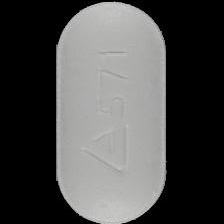60429-725: (0, 0, 224, 224)
